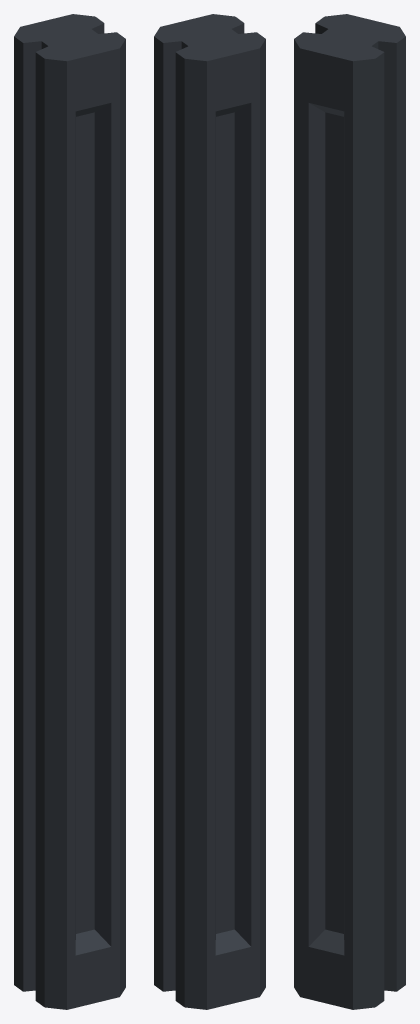
The model's file is SM_Pillar_4.glb.
3 views of the same model, side by side, from view 1: azimuth 30°, elevation 25°; view 2: azimuth 210°, elevation 25°; view 3: azimuth 330°, elevation 25° (orthographic).
Visible parts, largest first — view 1: SM_Pillar_4; view 2: SM_Pillar_4; view 3: SM_Pillar_4.
Part boxes in pixels (x1=…): SM_Pillar_4: x1=14, y1=14, x2=125, y2=1009; SM_Pillar_4: x1=154, y1=14, x2=265, y2=1009; SM_Pillar_4: x1=294, y1=14, x2=405, y2=1009.
Bounding box in the file's own units: 0.3588 × 4 × 0.3588.
1 material, 1 textured.
